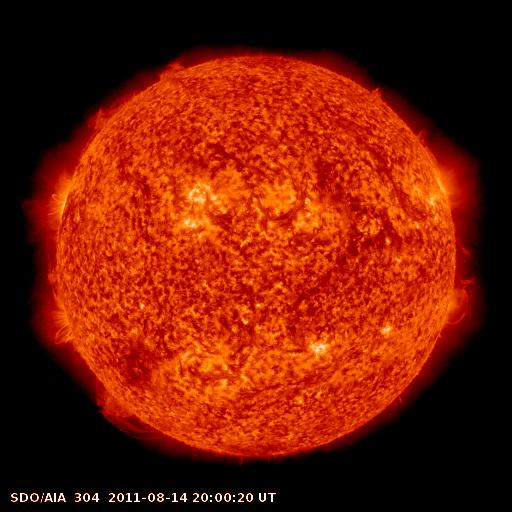prominence: (85, 373, 168, 446), (450, 227, 481, 335), (82, 94, 131, 138), (41, 234, 73, 300), (155, 54, 192, 90), (414, 123, 439, 168)
